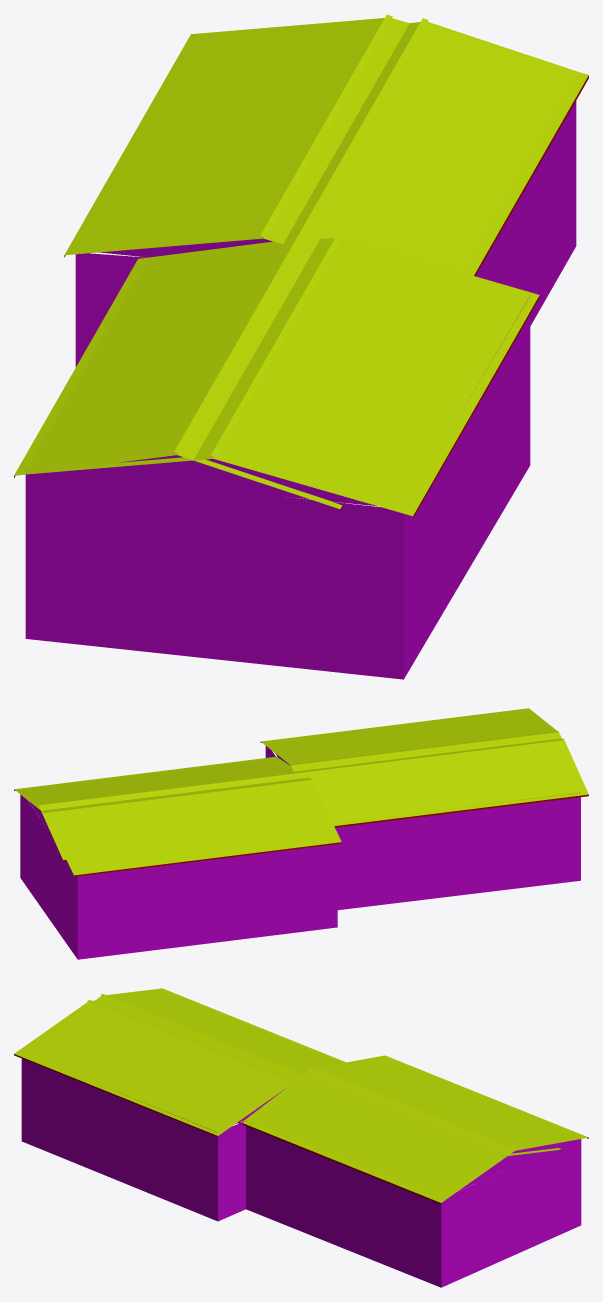
The model's file is rmc_37.glb.
3 views of the same model, one above another, from view 1: azimuth 30°, elevation 25°; view 2: azimuth 150°, elevation 25°; view 3: azimuth 270°, elevation 25° (orthographic). The views are drawn at different scales.
Visible parts, largest first — view 1: rmc_37; view 2: rmc_37; view 3: rmc_37.
Boxes of the visible parts, box(x1,y1,x2,y2) form: rmc_37: box(14, 14, 588, 679); rmc_37: box(14, 708, 588, 959); rmc_37: box(14, 988, 588, 1287).
Bounding box in the file's own units: 37.54 × 8.86 × 42.45.
